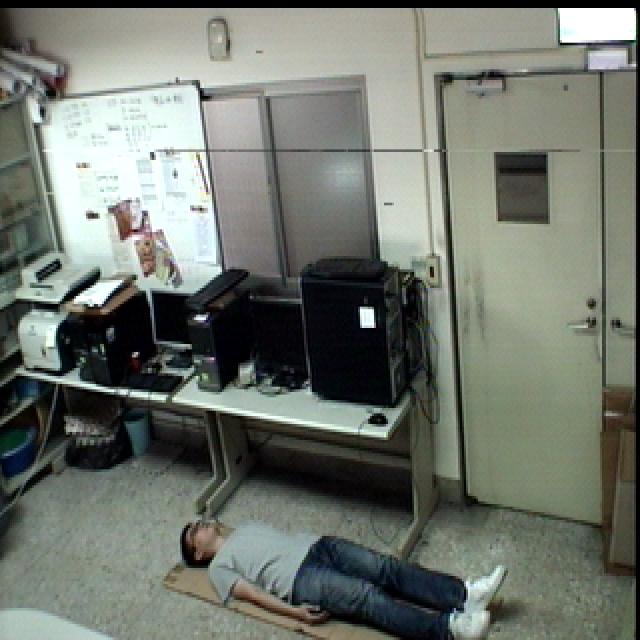lie: (174, 495, 512, 640)
